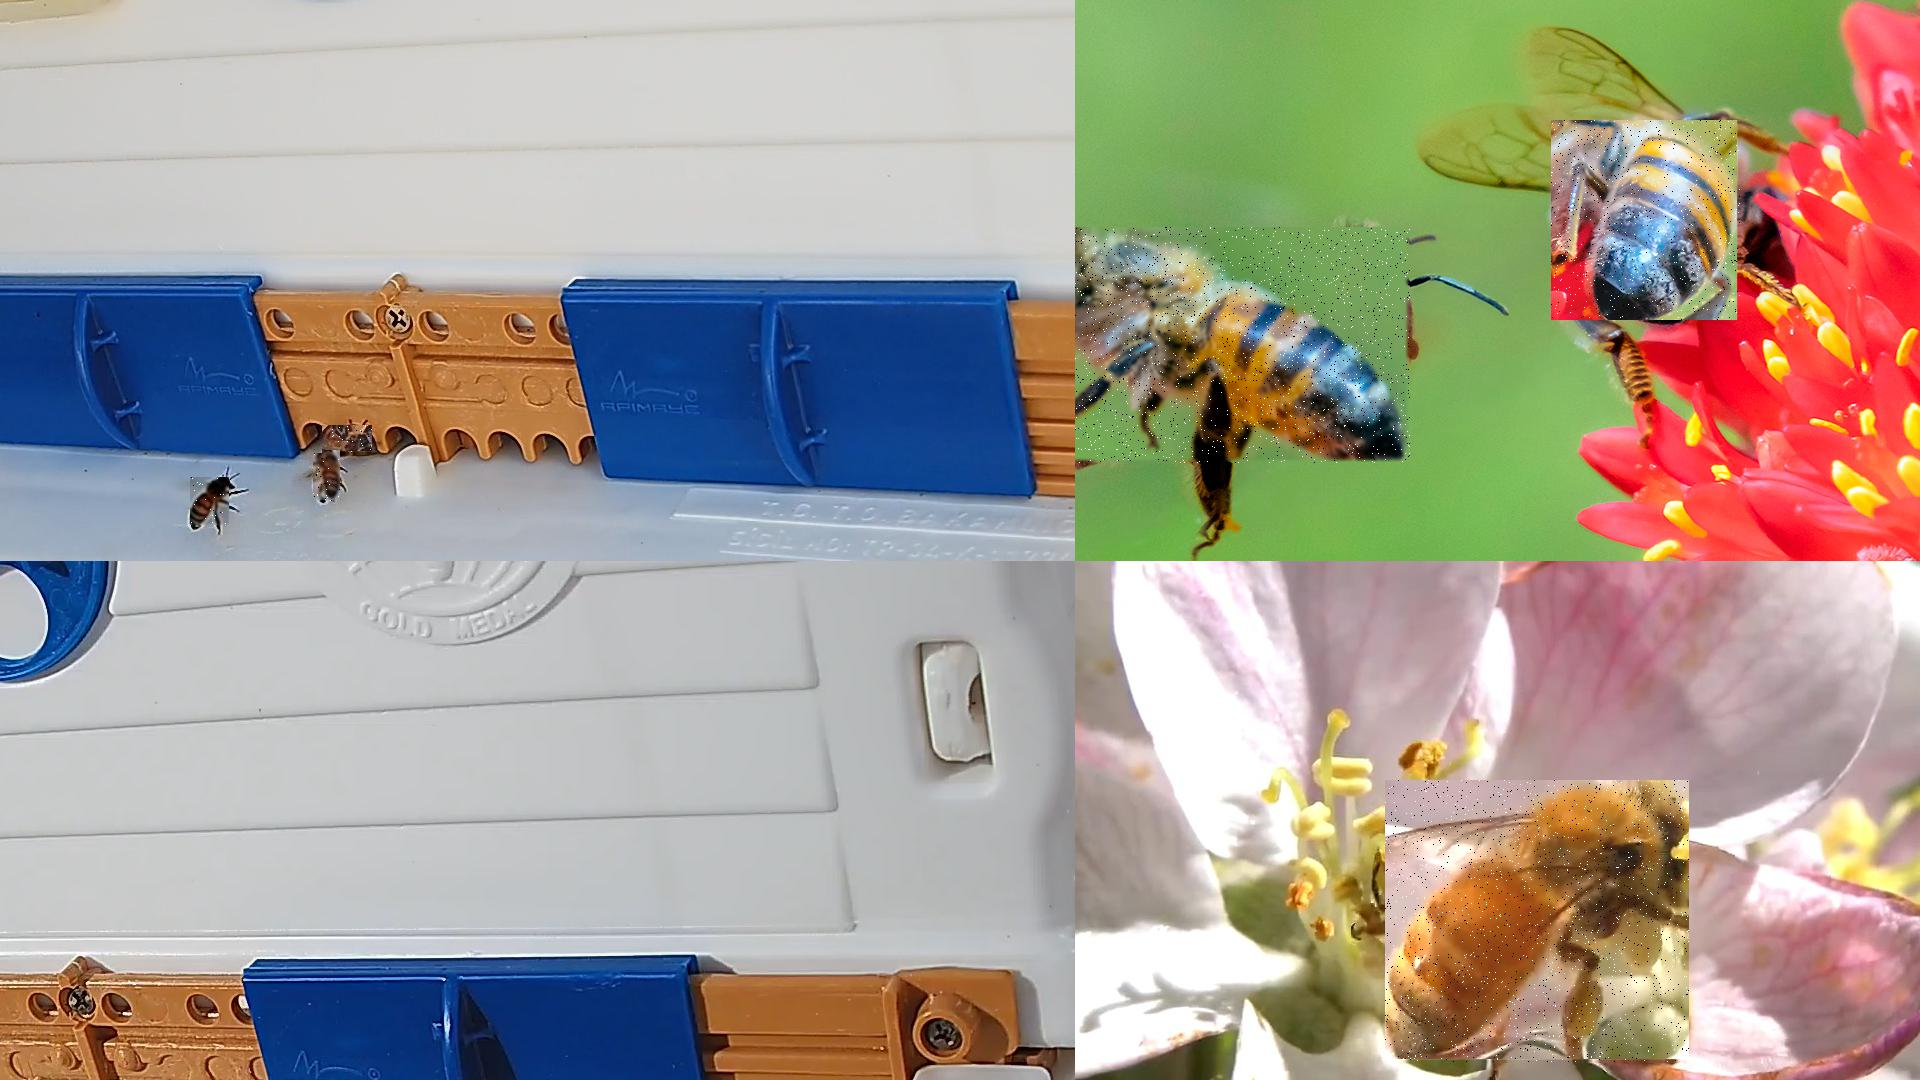bee: (1075, 227, 1412, 465), (1552, 120, 1742, 322), (190, 477, 231, 527), (322, 426, 373, 456)
pollenbee: (1385, 781, 1691, 1064), (313, 454, 342, 502)
